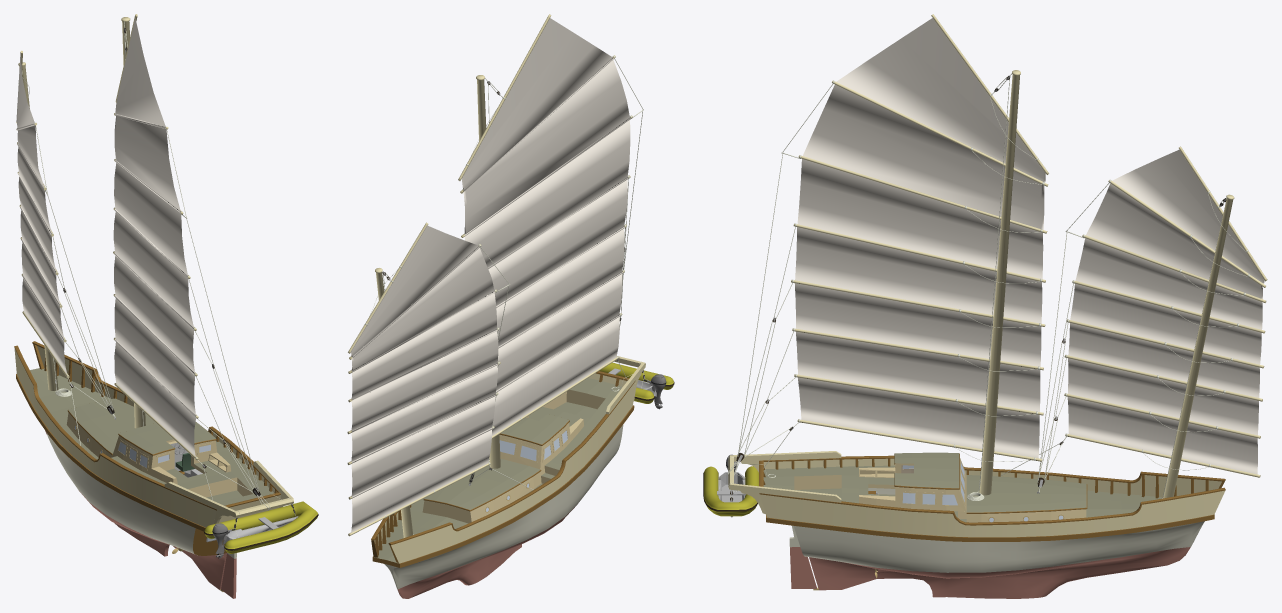
Rendered from Sketchfab_2015_07_18_16_23_06.blend.fbx.
The picture shows the model from 3 angles, left to right: view 1: azimuth 30°, elevation 25°; view 2: azimuth 150°, elevation 25°; view 3: azimuth 270°, elevation 25°; orthographic projection. The views are drawn at different scales.
Parts seen in each view (by area): view 1: mat, ponts, coquePavois, coqueMilieu, annexe, corde, coqueFond, coquePavoisInterne, jambettePavois, gouvernail, vitre; view 2: mat, ponts, coquePavois, coqueMilieu, coqueFond, annexe, corde, vitre, jambettePavois; view 3: mat, coquePavois, ponts, coqueMilieu, coqueFond, corde, coquePavoisInterneOmbre, annexe, gouvernail, jambettePavois.
Boxes of the visible parts, box(x1,y1,x2,y2) form: mat: box(16, 14, 198, 460); ponts: box(30, 368, 274, 505); coquePavois: box(14, 341, 293, 531); coqueMilieu: box(46, 432, 227, 555); annexe: box(204, 501, 318, 553); corde: box(22, 21, 270, 510); coqueFond: box(45, 431, 226, 589); coquePavoisInterne: box(37, 346, 274, 492); jambettePavois: box(33, 344, 277, 493); gouvernail: box(220, 553, 236, 598); vitre: box(74, 425, 210, 467); mat: box(347, 14, 632, 537); ponts: box(374, 378, 622, 563); coquePavois: box(371, 356, 645, 567); coqueMilieu: box(384, 424, 623, 589); coqueFond: box(397, 504, 577, 598); annexe: box(599, 362, 674, 403); corde: box(369, 58, 643, 489); vitre: box(486, 430, 567, 511); jambettePavois: box(371, 374, 619, 563); mat: box(791, 14, 1267, 498); coquePavois: box(728, 451, 1225, 541); ponts: box(763, 452, 1162, 522); coqueMilieu: box(794, 488, 1204, 572); coqueFond: box(809, 547, 1190, 598); corde: box(728, 73, 1247, 498); coquePavoisInterneOmbre: box(763, 458, 1223, 497); annexe: box(703, 466, 758, 517); gouvernail: box(789, 525, 818, 590); jambettePavois: box(763, 458, 1224, 498).
Size of the model in its own units: 2125 by 9776 by 8814.
